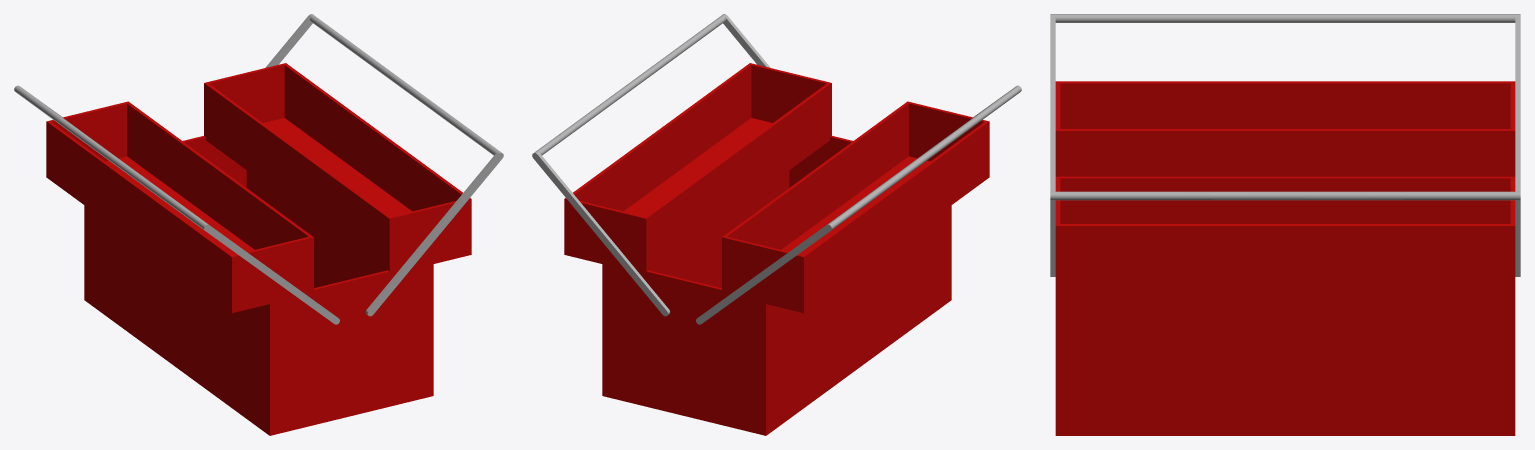
File: toolbox.glb
3 renders of one model, left to right at view 1: azimuth 30°, elevation 25°; view 2: azimuth 150°, elevation 25°; view 3: azimuth 270°, elevation 25°, orthographic. The views are drawn at different scales.
Visible parts, largest first — view 1: Solide1; view 2: Solide1; view 3: Solide1.
Boxes of the visible parts, x1,y1,x2,y2 form: Solide1: [14, 14, 503, 435]; Solide1: [532, 14, 1021, 435]; Solide1: [1050, 14, 1520, 435].
Bounding box in the file's own units: 0.4757 × 0.3469 × 0.522.
